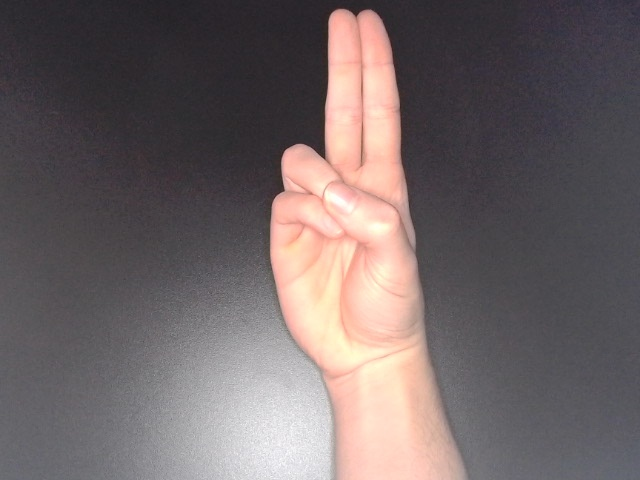r: (262, 3, 433, 412)
